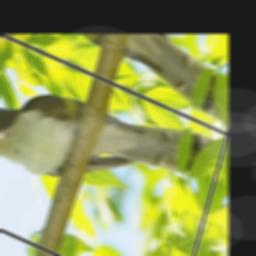Cuckoo: (0, 45, 220, 256)
